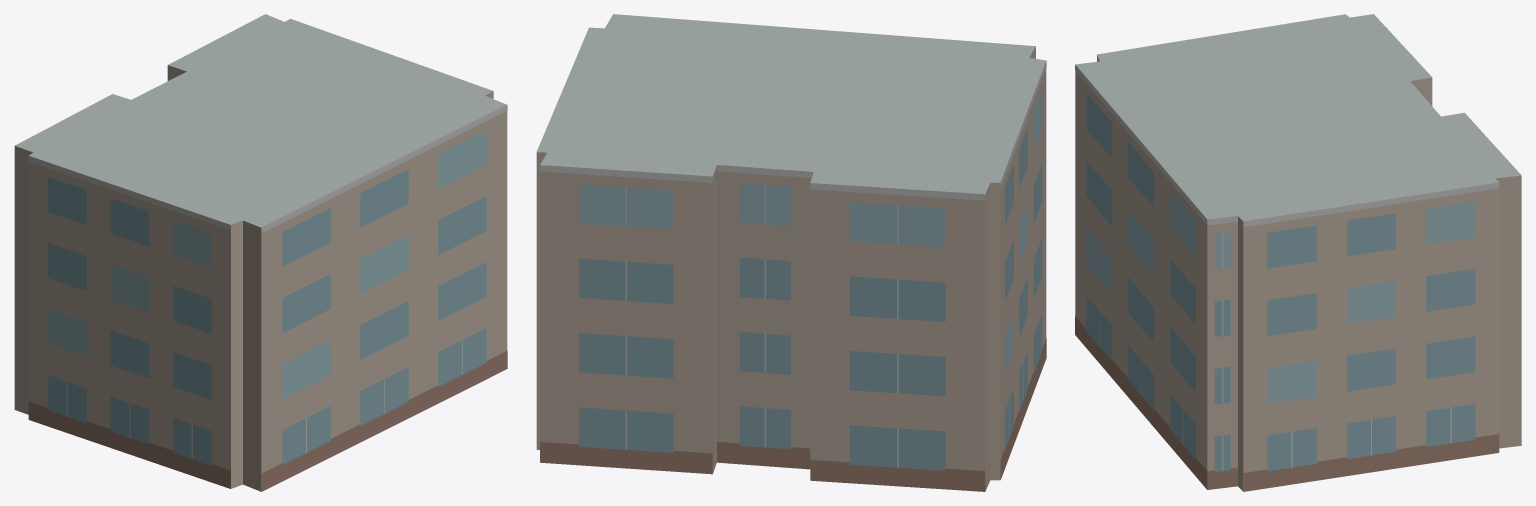
The model's file is survey-upis-32536939.glb.
The picture shows the model from 3 angles, left to right: view 1: azimuth 30°, elevation 25°; view 2: azimuth 150°, elevation 25°; view 3: azimuth 270°, elevation 25°; orthographic projection. The views are drawn at different scales.
Visible parts, largest first — view 1: survey-upis-32536939.tmp; view 2: survey-upis-32536939.tmp; view 3: survey-upis-32536939.tmp.
Part boxes in pixels (left/top/right/bottom): survey-upis-32536939.tmp: left=14, top=14, right=507, bottom=491; survey-upis-32536939.tmp: left=536, top=14, right=1046, bottom=491; survey-upis-32536939.tmp: left=1075, top=14, right=1521, bottom=491.
Size of the model in its own units: 18.44 by 11.2 by 16.77.
